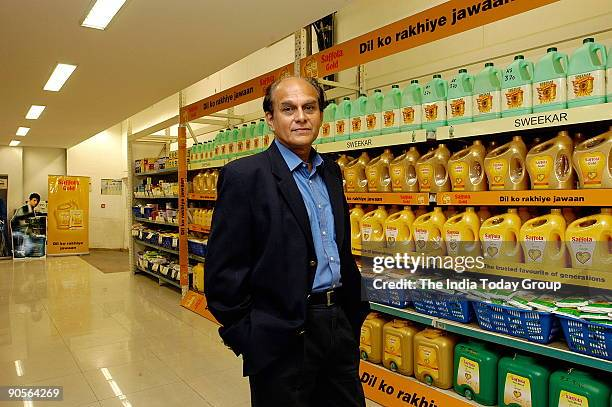saffola: (335, 104, 611, 386)
